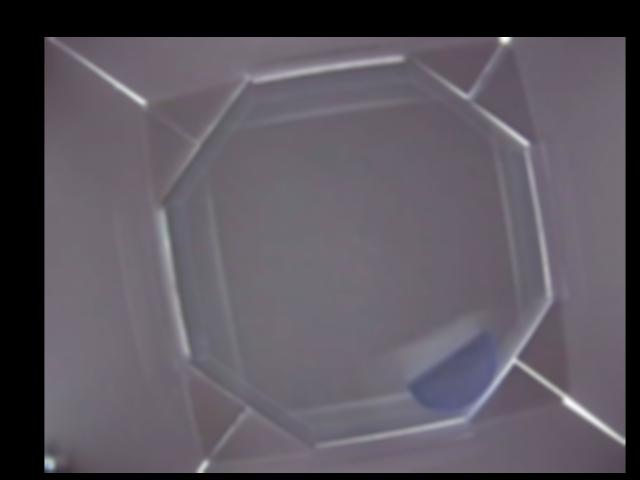Mooli: (411, 324, 493, 408)
